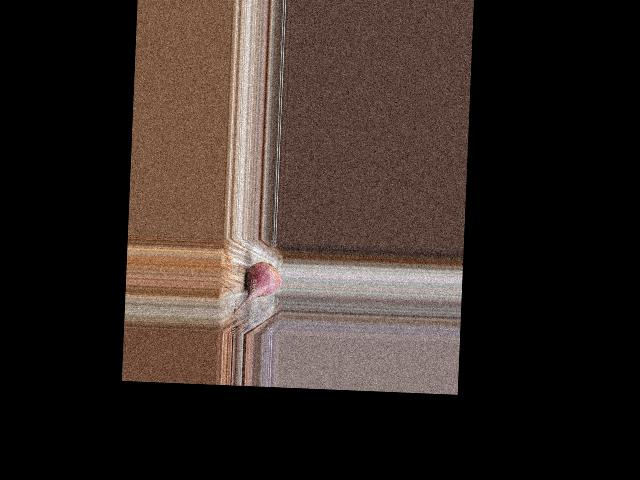beet: (234, 261, 281, 315)
